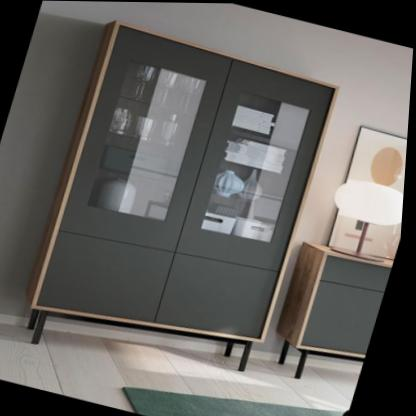Cupboard: (32, 22, 340, 360)
